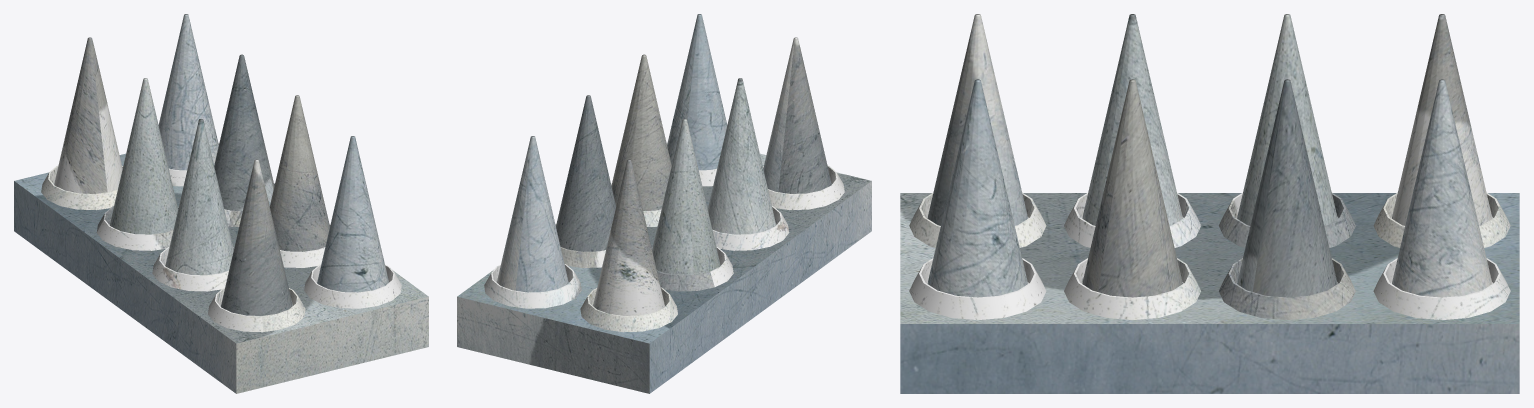
Rendered from spikes.fbx.
The picture shows the model from 3 angles, left to right: view 1: azimuth 30°, elevation 25°; view 2: azimuth 150°, elevation 25°; view 3: azimuth 270°, elevation 25°; orthographic projection. The views are drawn at different scales.
Parts seen in each view (by area): view 1: pasted__spikes; view 2: pasted__spikes; view 3: pasted__spikes.
Boxes of the visible parts, x1=… form: pasted__spikes: x1=14, y1=14, x2=428, y2=393; pasted__spikes: x1=457, y1=14, x2=871, y2=393; pasted__spikes: x1=900, y1=14, x2=1519, y2=393.
Size of the model in its own units: 100 by 100 by 200.
